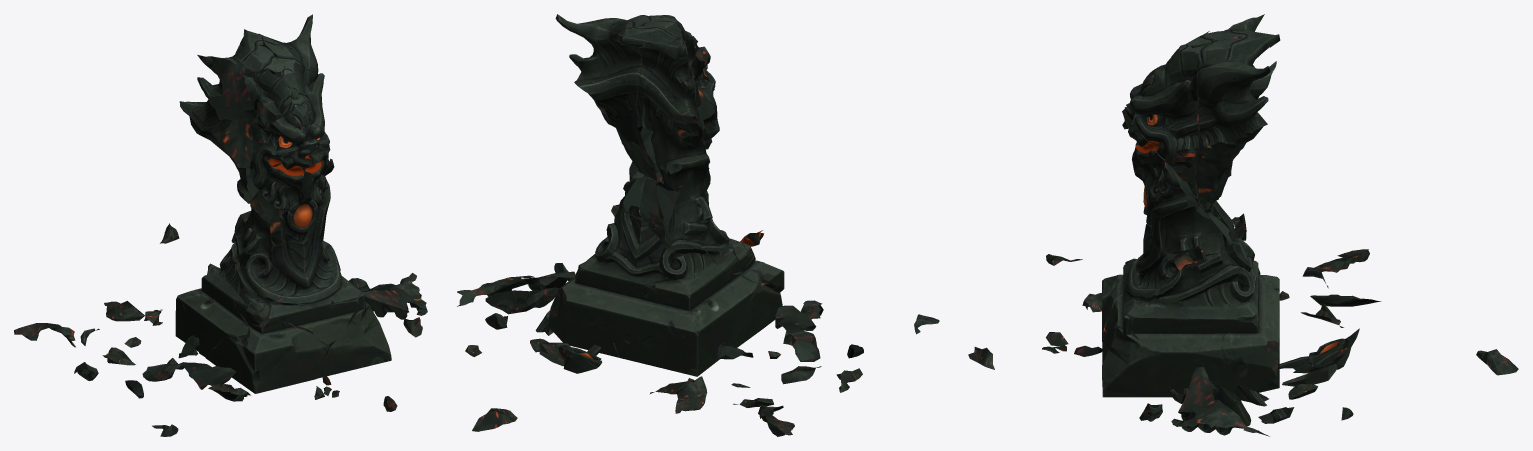
Rendered from TowerT4.glb.
3 views of the same model, side by side, from view 1: azimuth 30°, elevation 25°; view 2: azimuth 150°, elevation 25°; view 3: azimuth 270°, elevation 25° (orthographic). The views are drawn at different scales.
Parts seen in each view (by area): view 1: models/props_structures/tower_dragon_blk_dest_lvl3.vmdl_c.to; view 2: models/props_structures/tower_dragon_blk_dest_lvl3.vmdl_c.to; view 3: models/props_structures/tower_dragon_blk_dest_lvl3.vmdl_c.to.
Part boxes in pixels (x1,y1,x2,y2): models/props_structures/tower_dragon_blk_dest_lvl3.vmdl_c.to: [14, 14, 427, 436]; models/props_structures/tower_dragon_blk_dest_lvl3.vmdl_c.to: [457, 14, 939, 436]; models/props_structures/tower_dragon_blk_dest_lvl3.vmdl_c.to: [968, 14, 1518, 436].
Bounding box in the file's own units: 4.96 × 3.94 × 5.97.
1 material, 1 textured.
